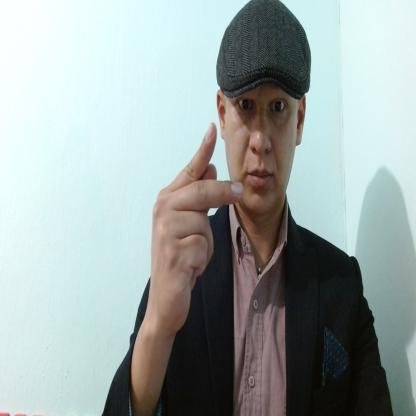P: (150, 116, 245, 332)
